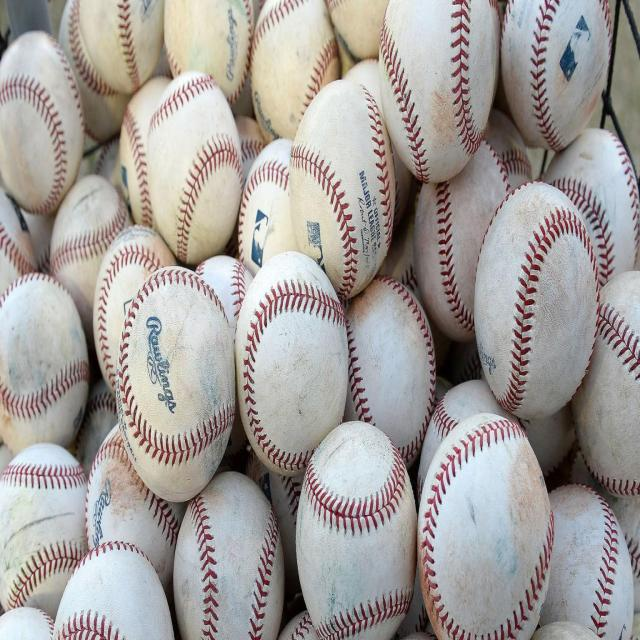baseball: (415, 411, 552, 637), (474, 177, 599, 414), (117, 265, 236, 499), (296, 422, 415, 633), (238, 253, 350, 464), (290, 80, 395, 288), (380, 4, 497, 182), (173, 475, 284, 637), (146, 68, 241, 252), (501, 1, 612, 151), (1, 442, 90, 616), (2, 274, 90, 448), (2, 27, 84, 211), (345, 276, 437, 440), (550, 482, 622, 636), (255, 4, 331, 123), (50, 172, 122, 288)
